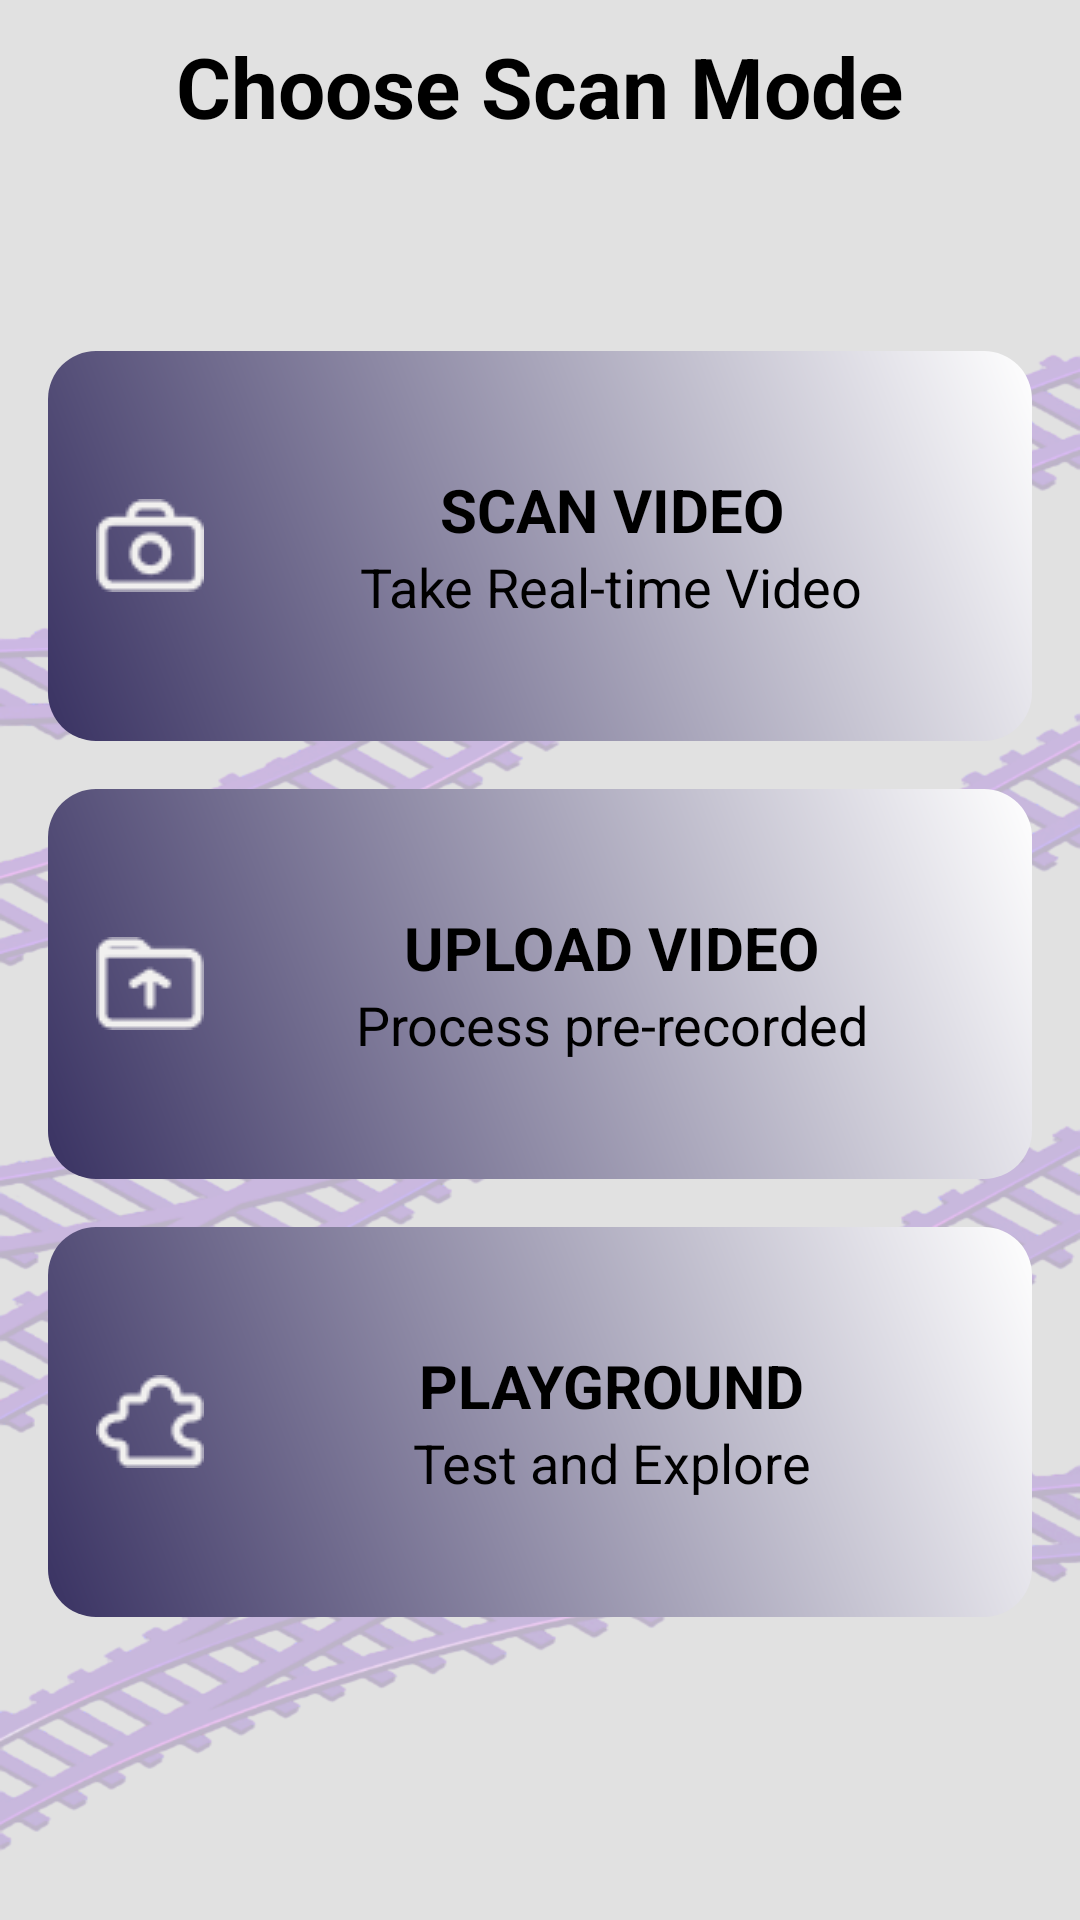

Screen size 1080 x 1920. Icon name, then its center in pixels as (x=x, y=y):
camera: (x=150, y=545)
play ground: (x=150, y=1421)
upload: (x=150, y=983)
